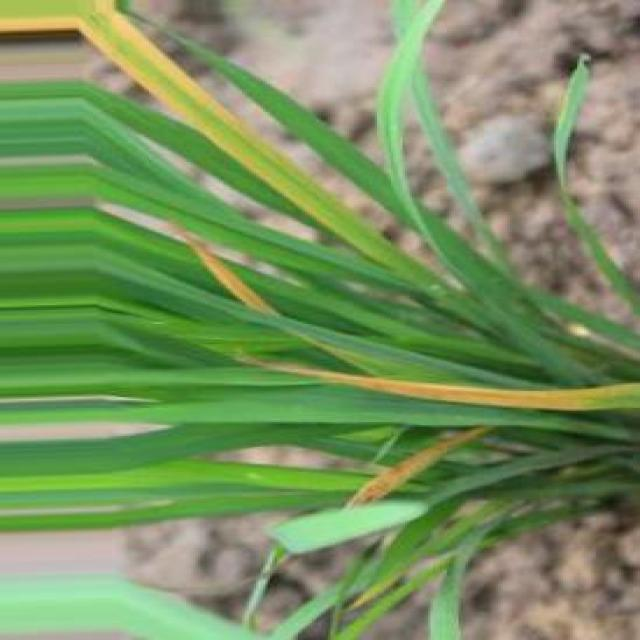Rice Tungro: (0, 0, 407, 264), (256, 362, 639, 411), (188, 239, 276, 314)
